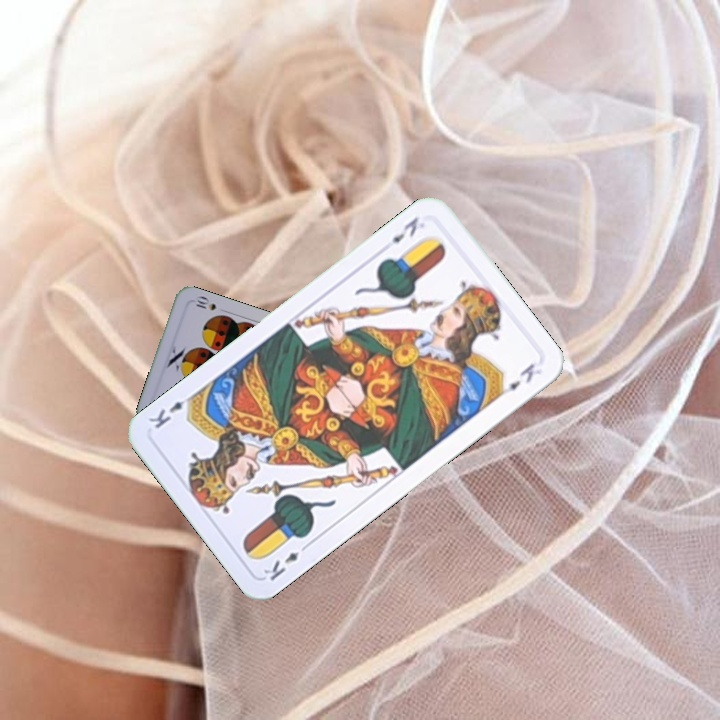EK: (260, 539, 312, 584), (387, 212, 422, 246)
